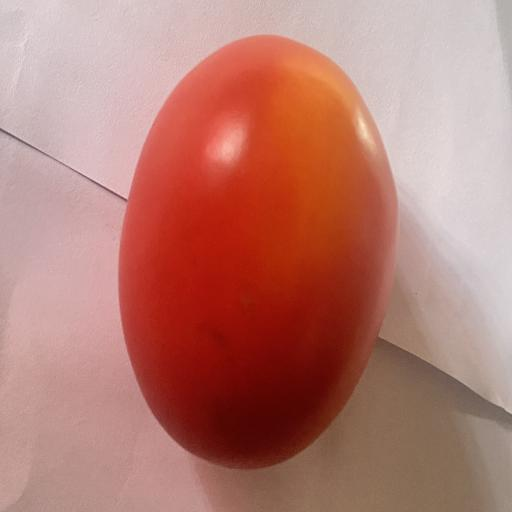ripe: (119, 36, 398, 467)
